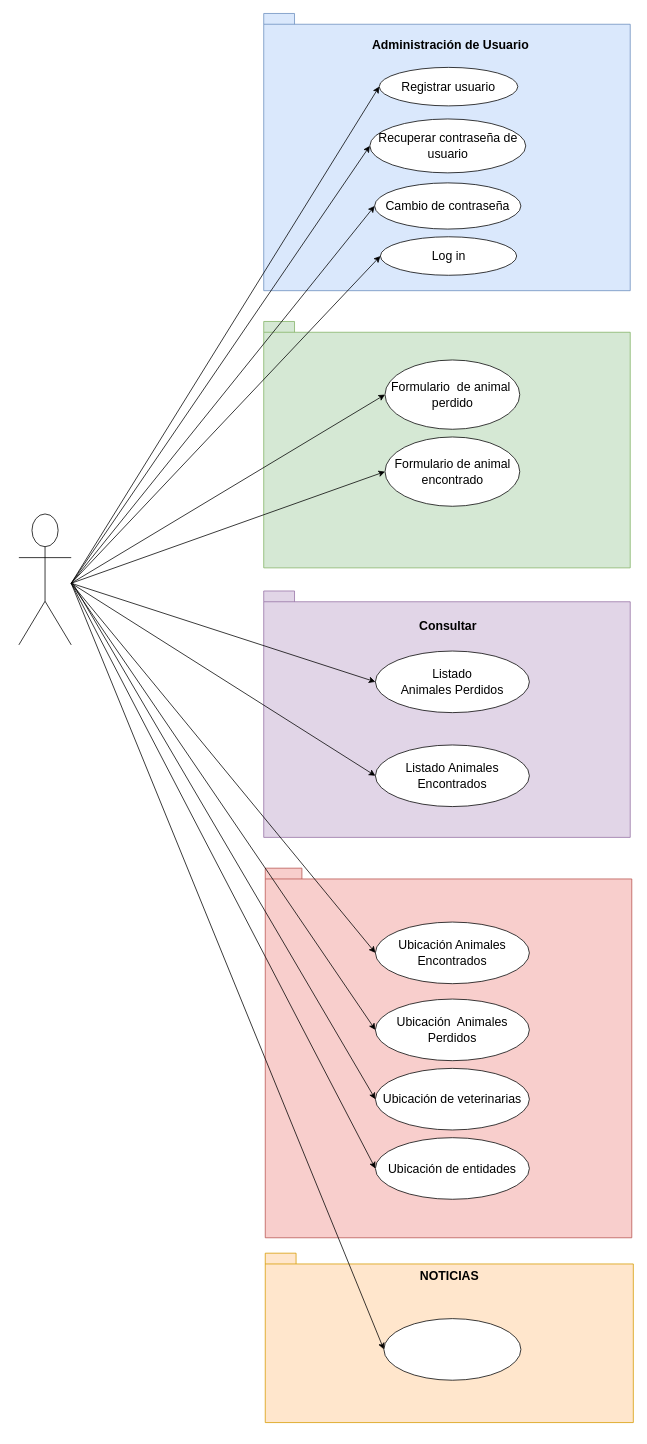
The diagram is 647 pixels wide and 1444 high, and some of its shapes have lost their labels. The shapes that lost their labels are listed below. From the top down, each one's box as (x1, y1, x2, y2) in pixels, then its label:
(263, 321, 630, 568): Reportar
(18, 513, 71, 645): Usuario
(264, 867, 632, 1238): Mapas
(383, 1318, 521, 1380): Visualizar noticias
